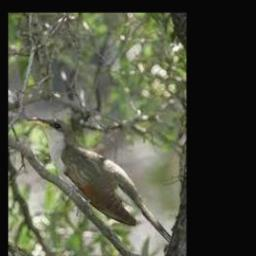Cuckoo: (29, 117, 172, 242)
